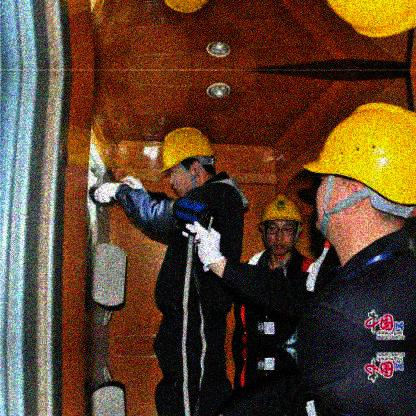helmet: (305, 102, 416, 254), (158, 128, 215, 196), (258, 194, 304, 264)
